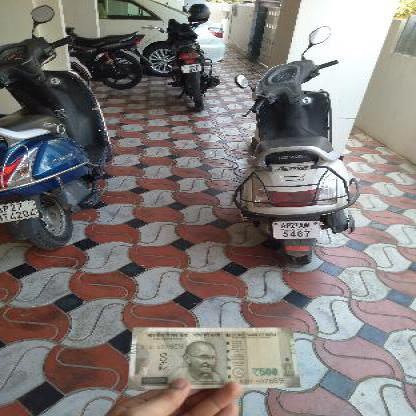New500Front: (129, 327, 303, 389)
